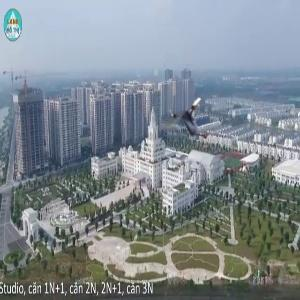drone: (167, 93, 225, 151)
